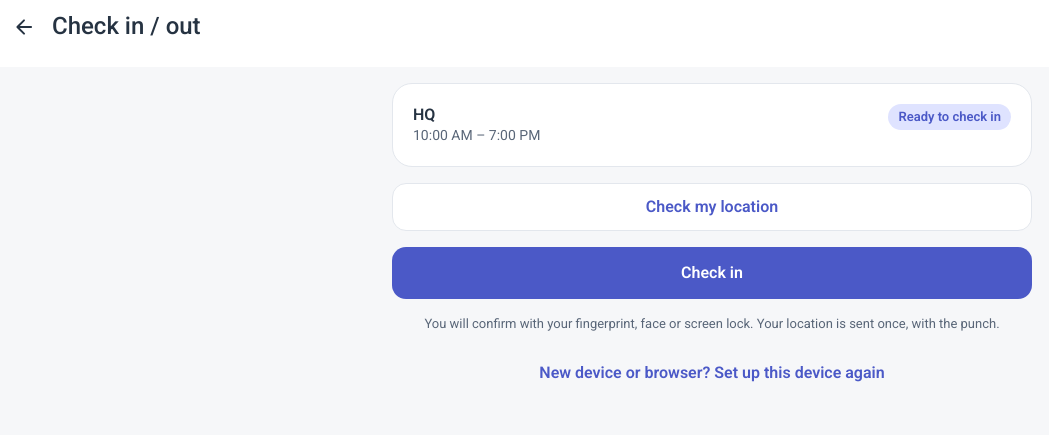
Punch screen › checks in with the passkey and shows the result
The width and height of the screenshot is (1049, 435).
Click the button "Check my location" at (712, 207), box x1=392 y1=183 x2=1032 y2=231
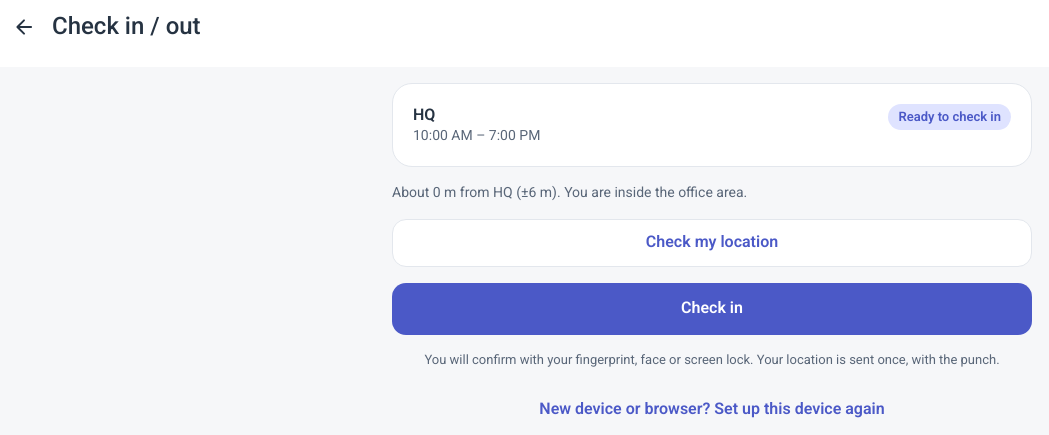
Expected: the text "About 0 m from HQ (±6 m). You are inside the office area." is shown, x1=392 y1=184 x2=747 y2=200
Click the button "Check in" at (712, 309), box x1=392 y1=283 x2=1032 y2=335
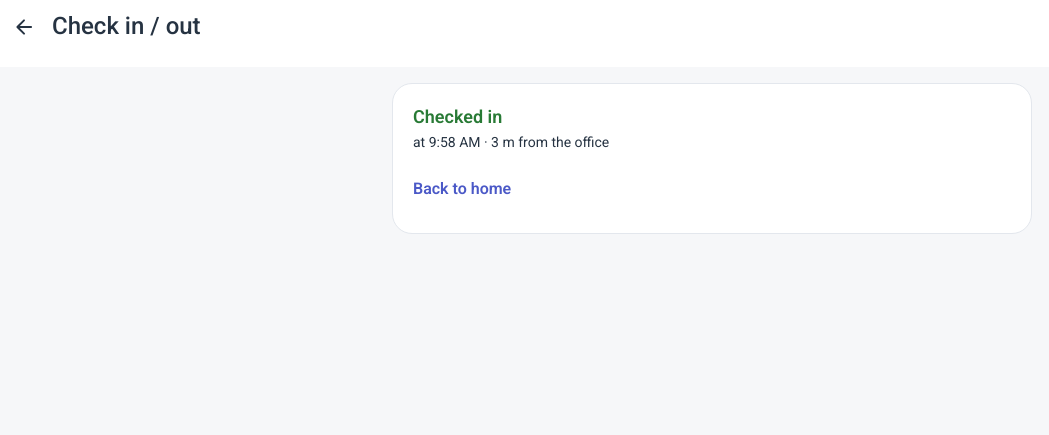
Expected: the message shows "Checked in", x1=413 y1=106 x2=502 y2=127
Expected: the message shows "9:58 AM", x1=429 y1=134 x2=480 y2=150
